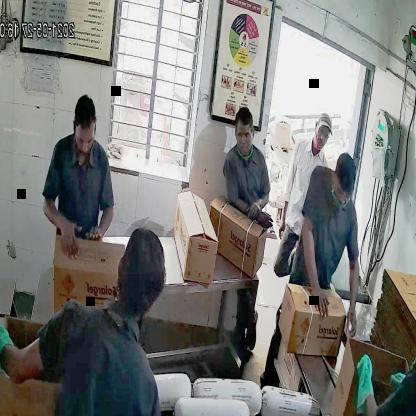no_goggles: (232, 126, 254, 148)
